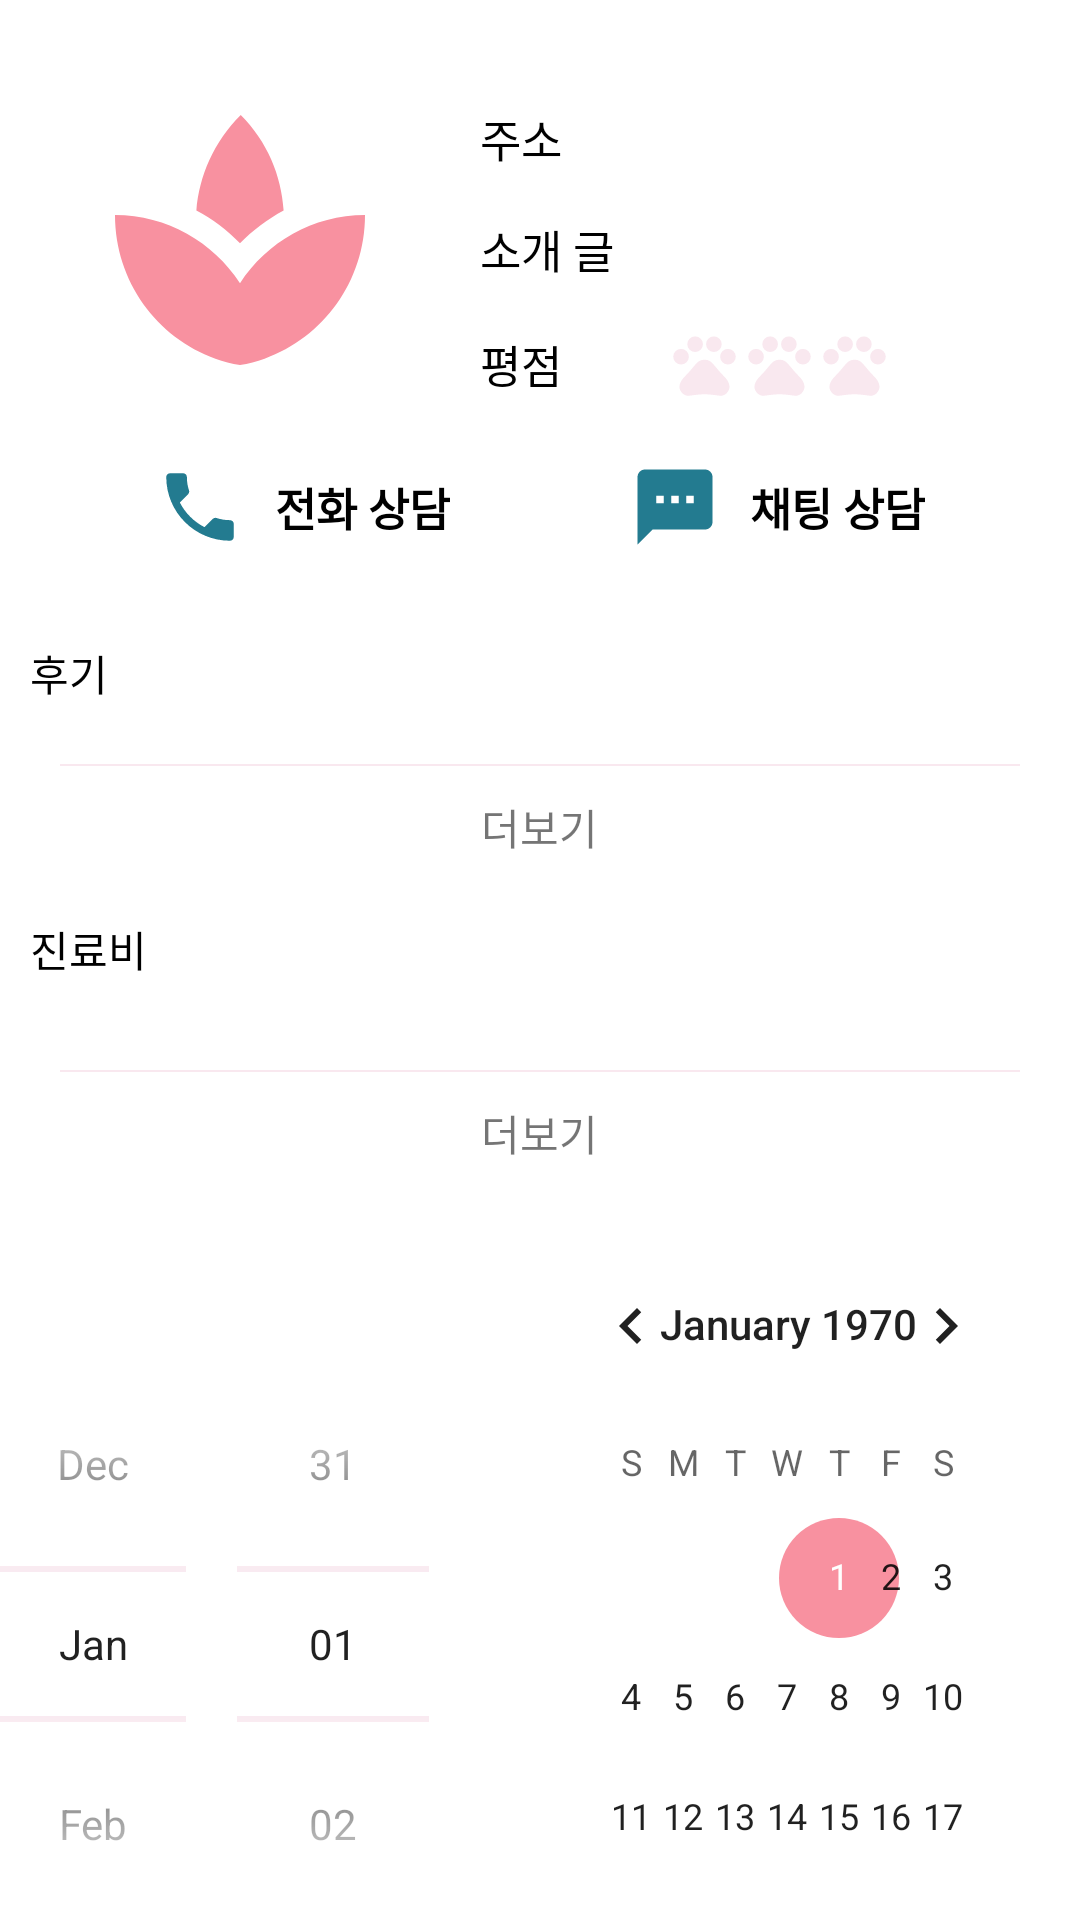

Icons on this 1080*1920 Android screen, each with the point to tap as [x,y]:
call: [200,507]
text: [675,507]
